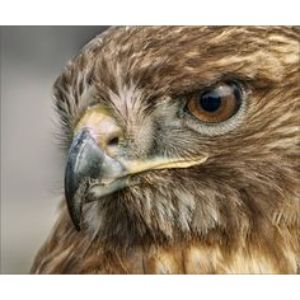hawk: (25, 29, 298, 275)
